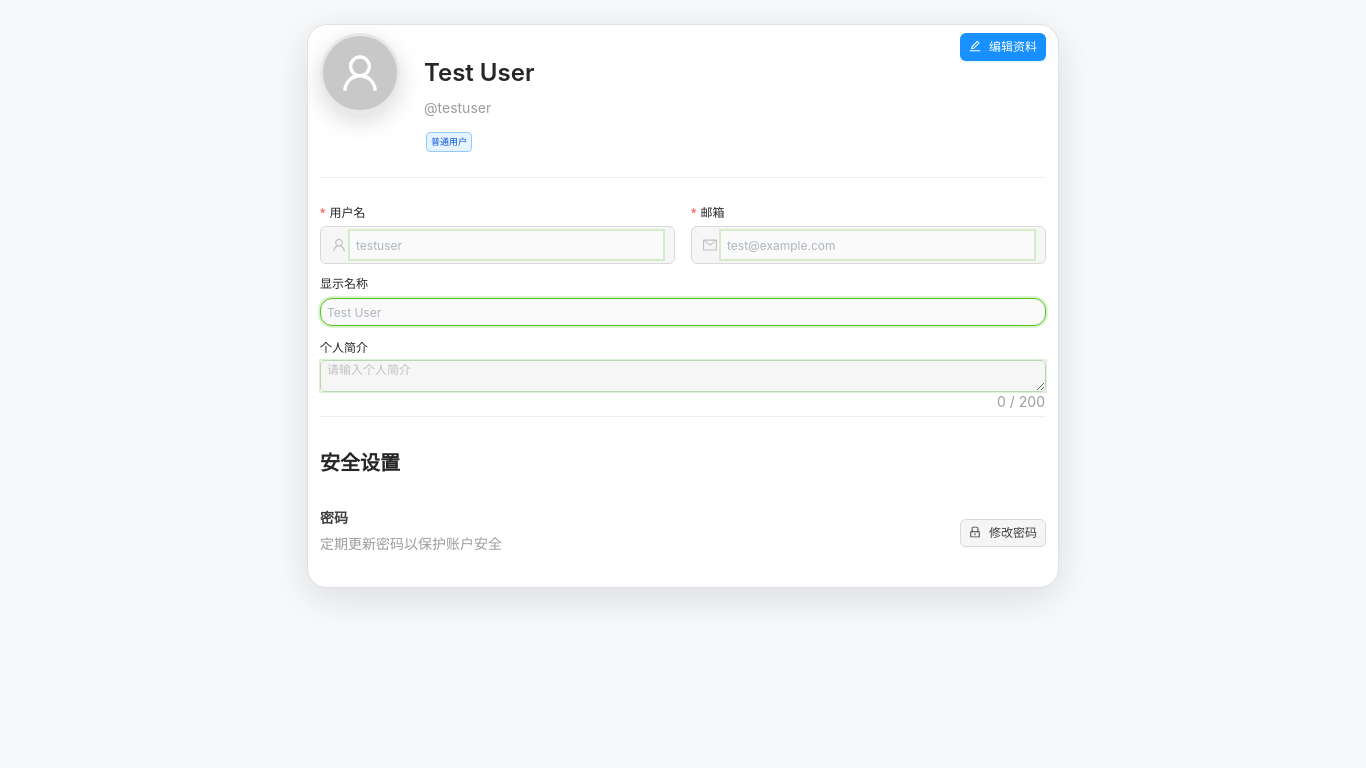
Test: UserProfile › should show change password section
The width and height of the screenshot is (1366, 768).
# 首先点击修改密码按钮打开模态框
Click the button named "lock 修改密码" at (1003, 533), box [960,519,1046,547]
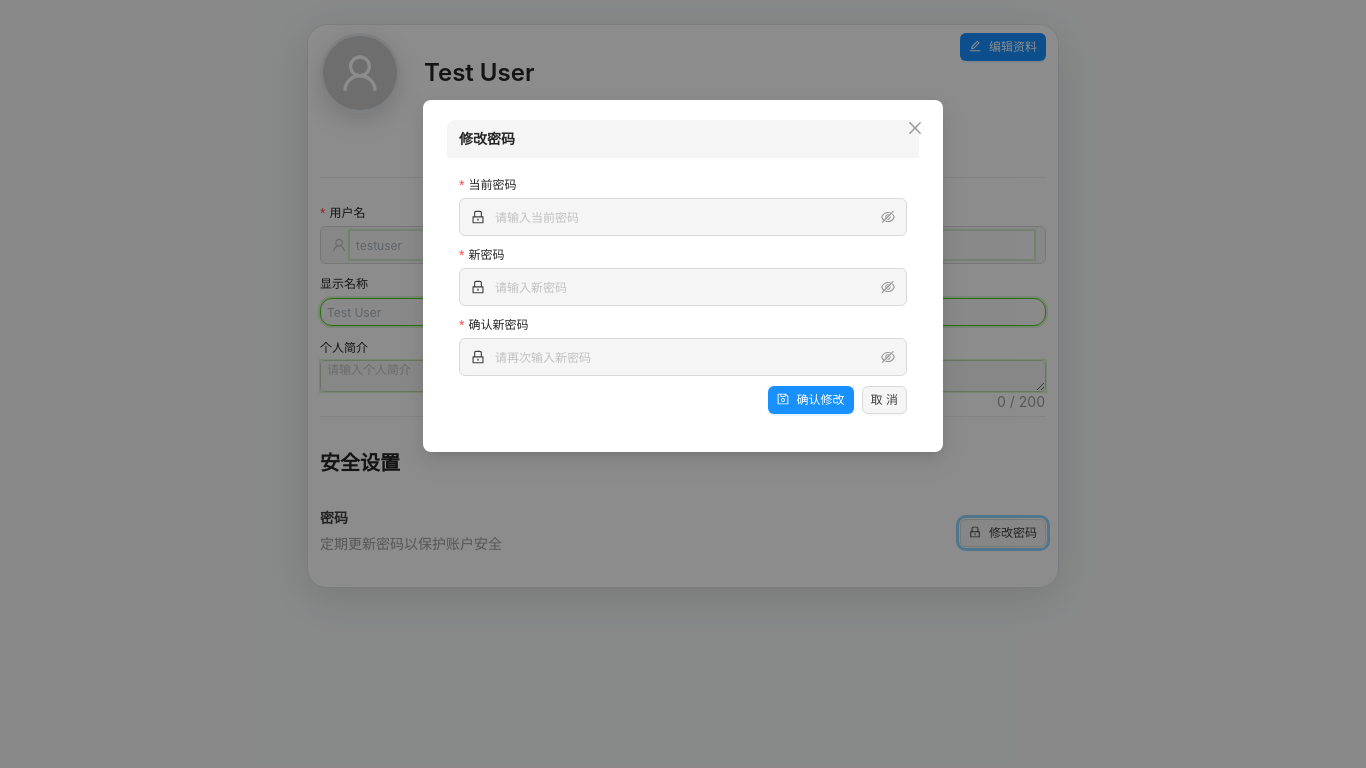
Check: the password field labelled "当前密码" is shown, box [489,203,877,231]
Check: the password field labelled "新密码" is shown, box [489,273,877,301]
Check: the password field labelled "确认新密码" is shown, box [489,343,877,371]
